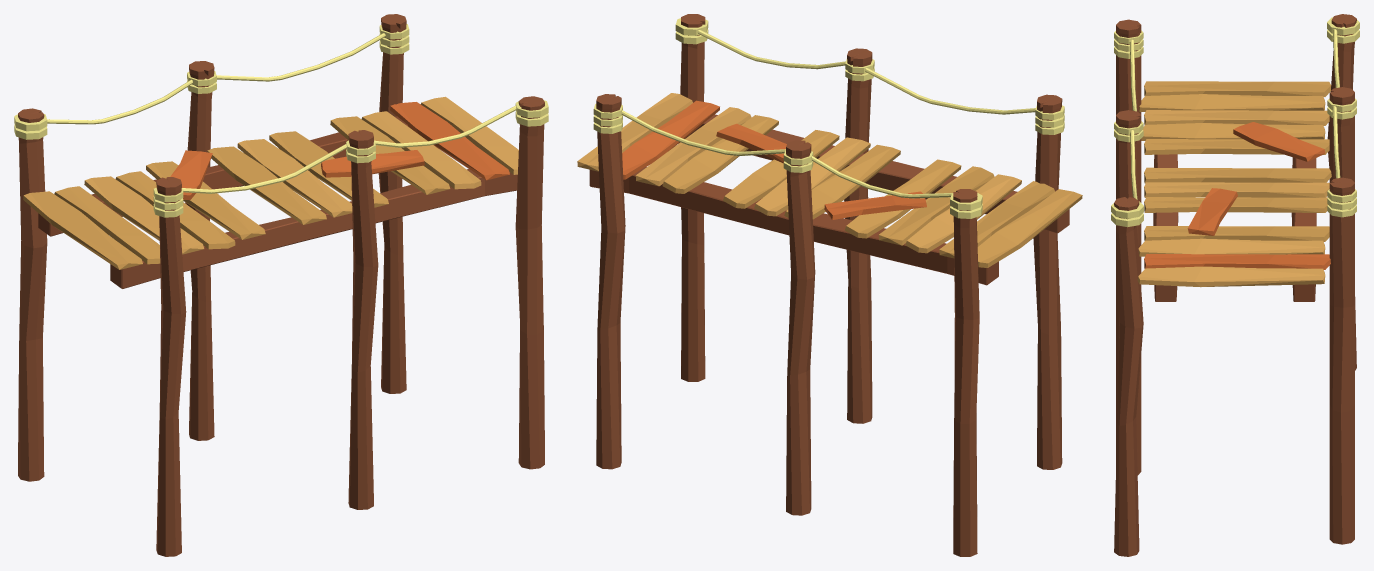
The model's file is Narrow Wooden platform 2.fbx.
3 renders of one model, left to right at view 1: azimuth 30°, elevation 25°; view 2: azimuth 150°, elevation 25°; view 3: azimuth 270°, elevation 25°, orthographic. The views are drawn at different scales.
Visible parts, largest first — view 1: Narrow Wooden platform 2; view 2: Narrow Wooden platform 2; view 3: Narrow Wooden platform 2.
Part boxes in pixels (<box>): Narrow Wooden platform 2: <box>14,14,548,556</box>; Narrow Wooden platform 2: <box>577,14,1082,556</box>; Narrow Wooden platform 2: <box>1111,14,1359,556</box>.
Size of the model in its own units: 528 by 440 by 278.
